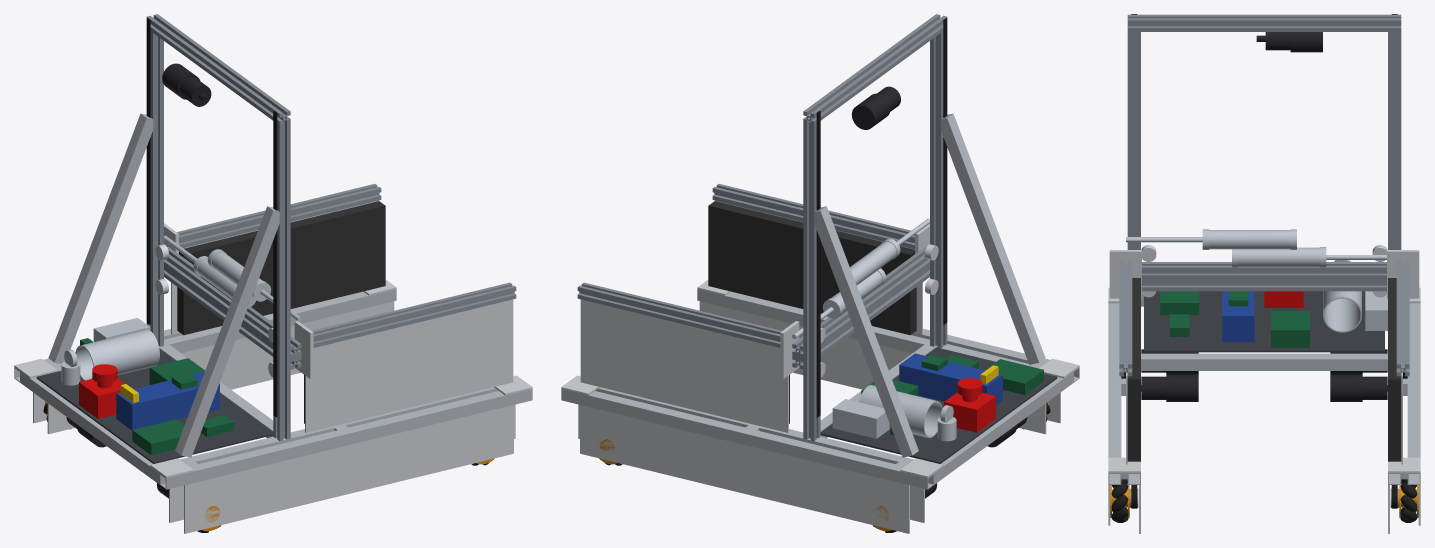
File: TR-B_awal.glb
The picture shows the model from 3 angles, left to right: view 1: azimuth 30°, elevation 25°; view 2: azimuth 150°, elevation 25°; view 3: azimuth 270°, elevation 25°; orthographic projection. The views are drawn at different scales.
Visible parts, largest first — view 1: rahang_kanan, pelat_lengan_luar_kanan, busa_rahang_kiri, rel_luar_kanan, penguat_tiang_2, penguat_tiang, tiang_carriage_2, dek_belakang, tiang_carriage, pelat_lengan_dalam_kiri, lengan_rahang_kanan, balok_carriage (+20 smaller); view 2: rahang_kiri, pelat_lengan_luar_kiri, busa_rahang_kanan, rel_luar_kiri, penguat_tiang_2, penguat_tiang, tiang_carriage, tiang_carriage_2, pelat_lengan_dalam_kanan, lengan_rahang_kiri, dek_belakang, balok_carriage (+19 smaller); view 3: dek_belakang, balok_carriage, palang_atas_carriage, palang_tiang, tiang_carriage, tiang_carriage_2, silinder_rahang_kanan, rel_luar_kiri, rel_luar_kanan, silinder_rahang_kiri, busa_rahang_kiri, busa_rahang_kanan (+18 smaller).
Boxes of the visible parts, x1,y1,x2,y2 form: rahang_kanan: [305, 299, 513, 432]; pelat_lengan_luar_kanan: [184, 405, 513, 533]; busa_rahang_kiri: [177, 201, 385, 335]; rel_luar_kanan: [160, 389, 532, 489]; penguat_tiang_2: [175, 206, 279, 457]; penguat_tiang: [48, 113, 154, 363]; tiang_carriage_2: [273, 121, 290, 441]; dek_belakang: [36, 349, 273, 463]; tiang_carriage: [146, 31, 163, 346]; pelat_lengan_dalam_kiri: [47, 301, 394, 433]; lengan_rahang_kanan: [312, 282, 516, 347]; balok_carriage: [164, 246, 301, 369]; rahang_kiri: [580, 299, 788, 432]; pelat_lengan_luar_kiri: [580, 405, 909, 533]; busa_rahang_kanan: [708, 201, 916, 335]; rel_luar_kiri: [561, 389, 933, 489]; penguat_tiang_2: [939, 113, 1045, 364]; penguat_tiang: [813, 206, 918, 457]; tiang_carriage: [803, 121, 820, 441]; tiang_carriage_2: [930, 31, 947, 348]; pelat_lengan_dalam_kanan: [699, 301, 1046, 433]; lengan_rahang_kiri: [577, 282, 781, 347]; dek_belakang: [820, 347, 1057, 463]; balok_carriage: [792, 246, 929, 369]; dek_belakang: [1144, 291, 1384, 352]; balok_carriage: [1142, 262, 1386, 291]; palang_atas_carriage: [1127, 14, 1401, 31]; palang_tiang: [1141, 353, 1387, 370]; tiang_carriage: [1388, 32, 1401, 249]; tiang_carriage_2: [1127, 32, 1140, 249]; silinder_rahang_kanan: [1126, 229, 1296, 249]; rel_luar_kiri: [1407, 303, 1420, 484]; rel_luar_kanan: [1108, 303, 1121, 484]; silinder_rahang_kiri: [1232, 247, 1386, 267]; busa_rahang_kiri: [1388, 278, 1401, 461]; busa_rahang_kanan: [1127, 278, 1140, 461].
Size of the model in its own units: 668 by 689 by 480.
